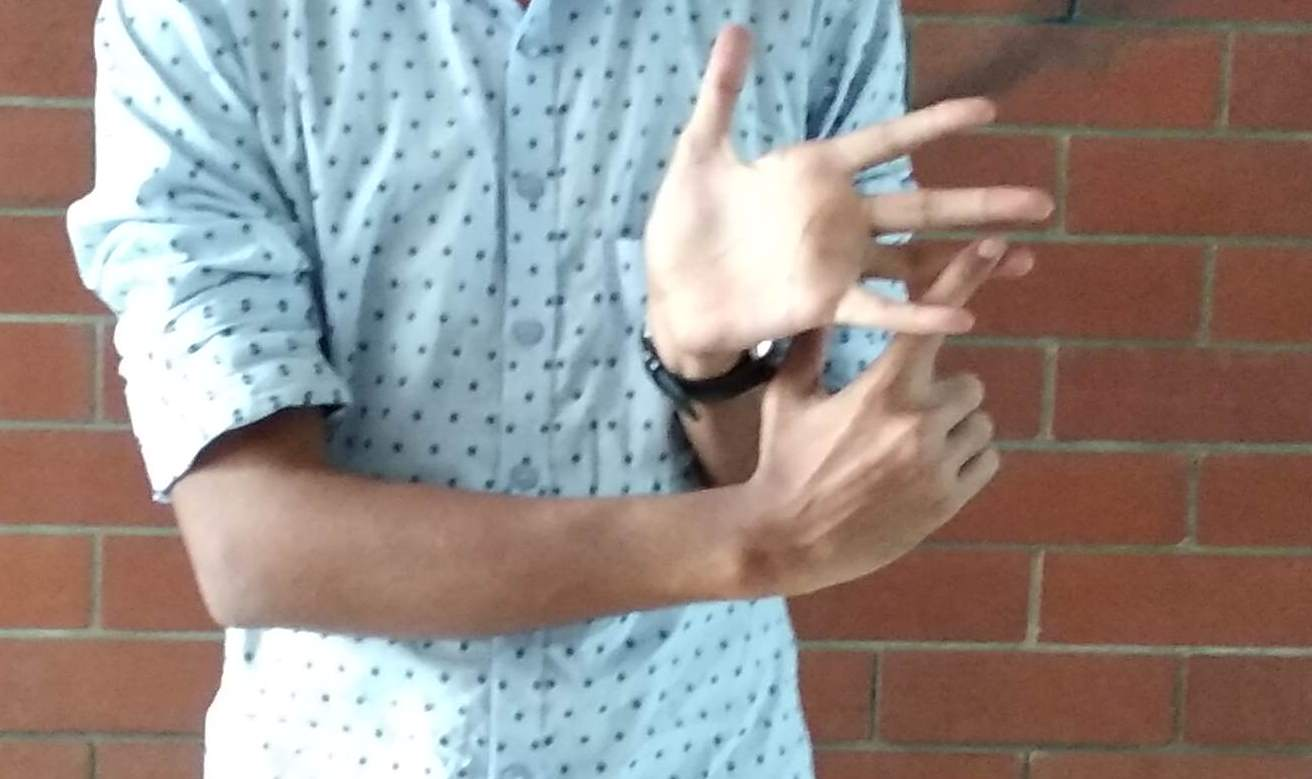e: (663, 85, 1065, 439)
